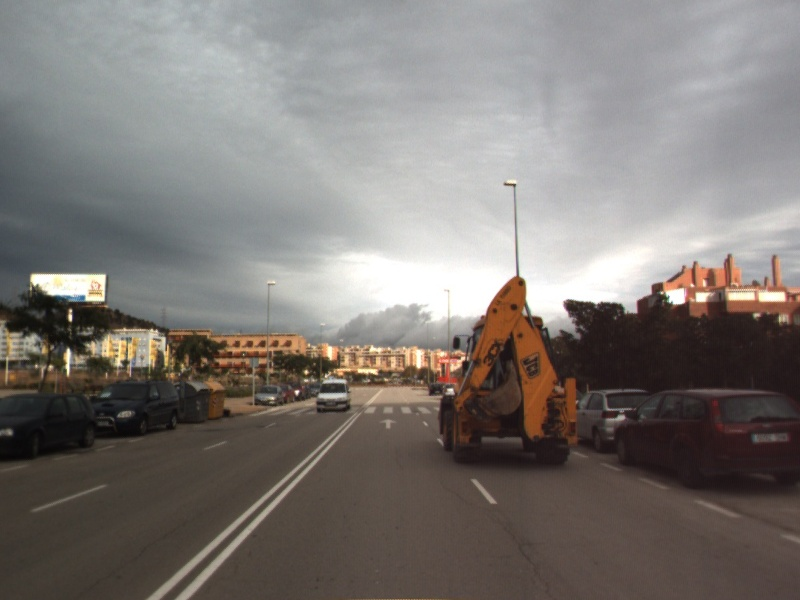STRAIGHT: (378, 417, 399, 430)
